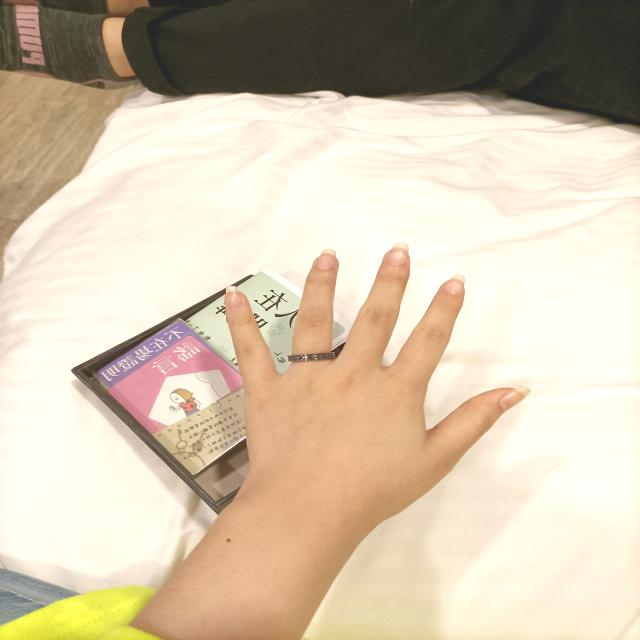no_glove: (204, 223, 544, 548)
